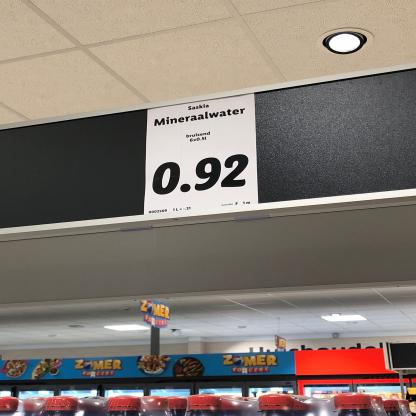prtg: (145, 94, 259, 216)
